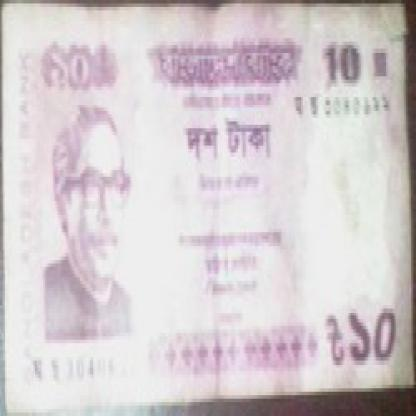Ten Taka: (348, 295, 404, 374), (45, 38, 105, 101), (323, 35, 369, 90)
